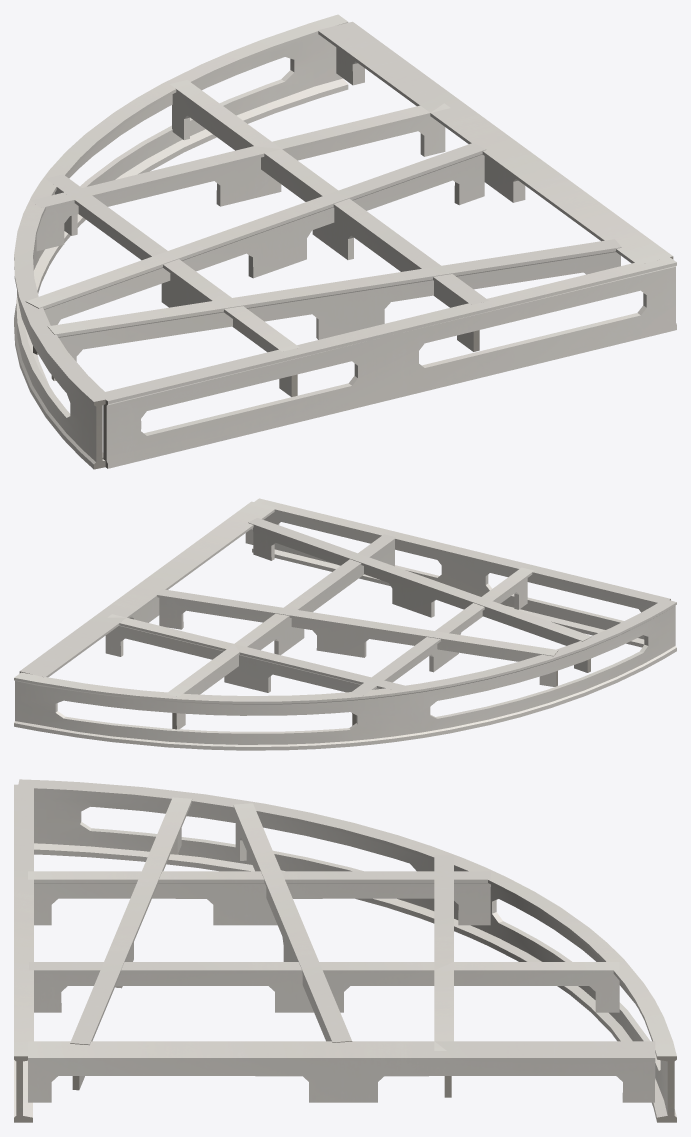
File: builderRoofCorner_WIP.FBX
The picture shows the model from 3 angles, top to bottom: view 1: azimuth 30°, elevation 25°; view 2: azimuth 150°, elevation 25°; view 3: azimuth 270°, elevation 25°; orthographic projection. The views are drawn at different scales.
Visible parts, largest first — view 1: builderRoofCorner_WIP_LOD0; view 2: builderRoofCorner_WIP_LOD0; view 3: builderRoofCorner_WIP_LOD0.
Part boxes in pixels (x1,y1,x2,y2): builderRoofCorner_WIP_LOD0: (14,14,676,469); builderRoofCorner_WIP_LOD0: (14,498,676,750); builderRoofCorner_WIP_LOD0: (14,779,676,1122).
Size of what is drawn, in the model's own units: 3.07 by 0.3436 by 3.09.
